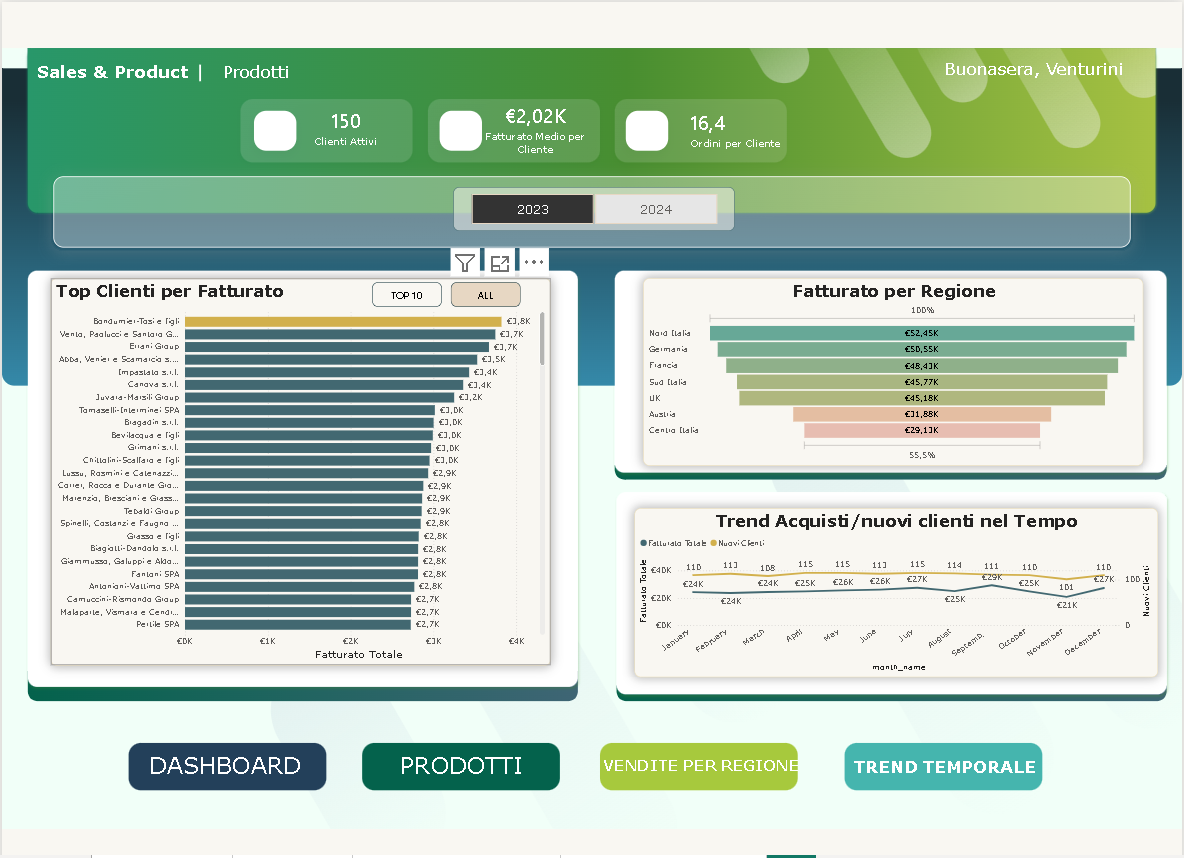

The page's visual inventory and layout, read from the dashboard file:
{"tool":"powerbi","page":{"name":"VENDITE PER REGIONE","canvas":[1889,1406],"ordinal":2},"visuals":[{"type":"cardVisual","fields":{"Data":["_Measures.Clienti Attivi"]},"box":[452,142,196,114],"z":0},{"type":"cardVisual","fields":{"Data":["_Measures.Fatturato Medio per Cliente"]},"box":[744,124,218,154],"z":1000},{"type":"cardVisual","fields":{"Data":["_Measures.Ordini per Cliente"]},"box":[1072,138,236,130],"z":2000},{"type":"barChart","title":"Top Clienti per Fatturato","fields":{"Y":["_Measures.Fatturato Totale"],"Category":["Customers.customer_name"]},"box":[77.5,442.5,800,620],"z":3000},{"type":"funnel","title":"Fatturato per Regione","fields":{"Y":["_Measures.Fatturato Totale"],"Category":["Customers.region"]},"box":[1025,442.5,800,300],"z":4000},{"type":"lineChart","title":"Trend Acquisti/nuovi clienti nel Tempo","fields":{"Y":["_Measures.Fatturato Totale"],"Y2":["_Measures.Nuovi Clienti"],"Category":["Calendar.month_name"]},"box":[1012.5,810,837.5,270],"z":5000},{"type":"shape","box":[202.5,1175,315,97.5],"z":6000},{"type":"shape","box":[962,1180,314,98],"z":7000},{"type":"shape","box":[1348,1180,314,98],"z":8000},{"type":"card","fields":{"Values":["_Measures.Titolo"]},"box":[45.9,78.6,262,68],"z":9000},{"type":"card","fields":{"Values":["_Measures.Prodotti"]},"box":[310,77.5,195,70],"z":10000},{"type":"card","fields":{"Values":["_Measures.Messaggio_benvenuto"]},"box":[1452.5,72.5,397.5,70],"z":11000},{"type":"textbox","box":[230,1192.5,297.5,60],"z":12000},{"type":"textbox","box":[632.5,1192.5,220,60],"z":13000},{"type":"textbox","box":[955,1202.5,352.5,60],"z":14000},{"type":"textbox","box":[1357.5,1202.5,307.5,57.5],"z":15000},{"type":"shape","title":"All pressed","box":[718,448,112,40],"z":16000},{"type":"shape","title":"Top 10","box":[592,448,112,40],"z":18000},{"type":"slicer","fields":{"Values":["Calendar.year"]},"box":[722,296,450,70],"z":20000}]}

Visuals, with their boxes in screenshot pixels (x1, y1, x2, y2), scaled from the page's 1889x1406 canvas onto the 1184x858 screenshot:
cardVisual - _Measures.Clienti Attivi: [283, 87, 406, 156]
cardVisual - _Measures.Fatturato Medio per Cliente: [466, 76, 603, 170]
cardVisual - _Measures.Ordini per Cliente: [672, 84, 820, 164]
"Top Clienti per Fatturato" barChart: [49, 270, 550, 648]
"Fatturato per Regione" funnel: [642, 270, 1144, 453]
"Trend Acquisti/nuovi clienti nel Tempo" lineChart: [635, 494, 1160, 659]
shape: [127, 717, 324, 777]
shape: [603, 720, 800, 780]
shape: [845, 720, 1042, 780]
card - _Measures.Titolo: [29, 48, 193, 89]
card - _Measures.Prodotti: [194, 47, 317, 90]
card - _Measures.Messaggio_benvenuto: [910, 44, 1160, 87]
textbox: [144, 728, 331, 764]
textbox: [396, 728, 534, 764]
textbox: [599, 734, 820, 770]
textbox: [851, 734, 1044, 769]
"All pressed" shape: [450, 273, 520, 298]
"Top 10" shape: [371, 273, 441, 298]
slicer - Calendar.year: [453, 181, 735, 223]
